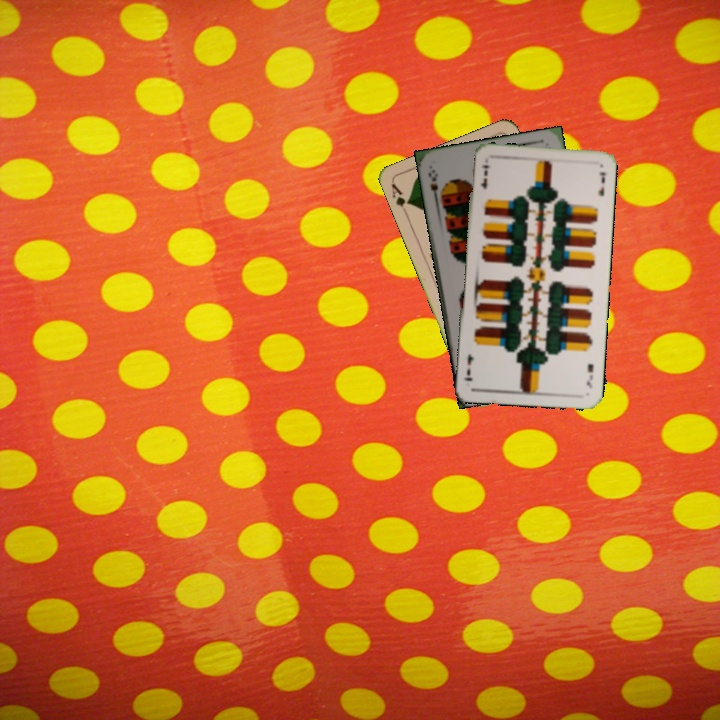E7: (476, 161, 491, 191), (582, 359, 596, 391)
GA: (387, 180, 413, 218)
S9: (424, 165, 441, 204)
